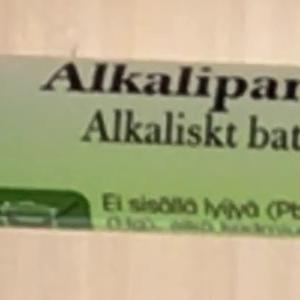keyword: (72, 99, 132, 153)
